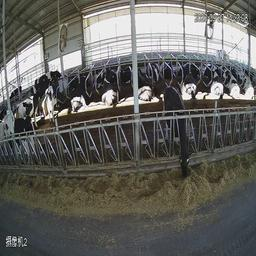cow: (161, 80, 196, 192), (5, 113, 47, 175), (34, 64, 63, 119), (175, 57, 202, 106), (101, 62, 125, 110), (12, 92, 45, 126), (70, 68, 92, 114), (206, 59, 226, 109), (224, 68, 245, 106), (137, 62, 155, 104), (238, 62, 253, 103), (217, 41, 232, 68)
